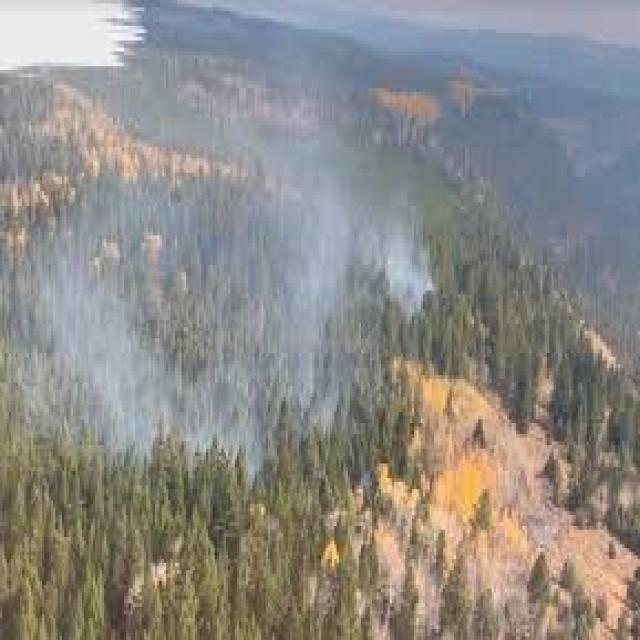Smoke: (0, 236, 362, 484), (250, 118, 348, 417), (361, 195, 439, 326)
